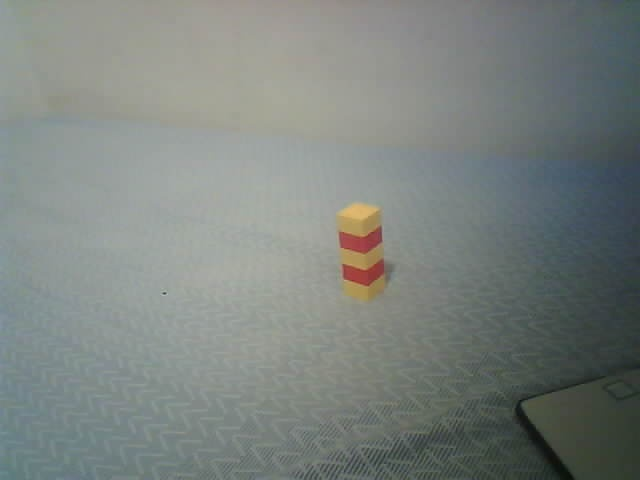lego: (334, 201, 386, 301)
